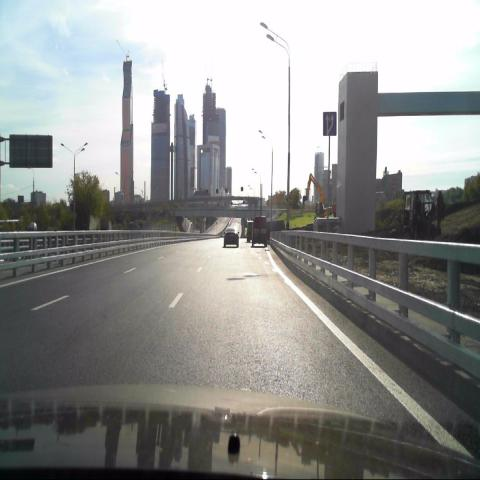5_15_3: (322, 112, 336, 138)
